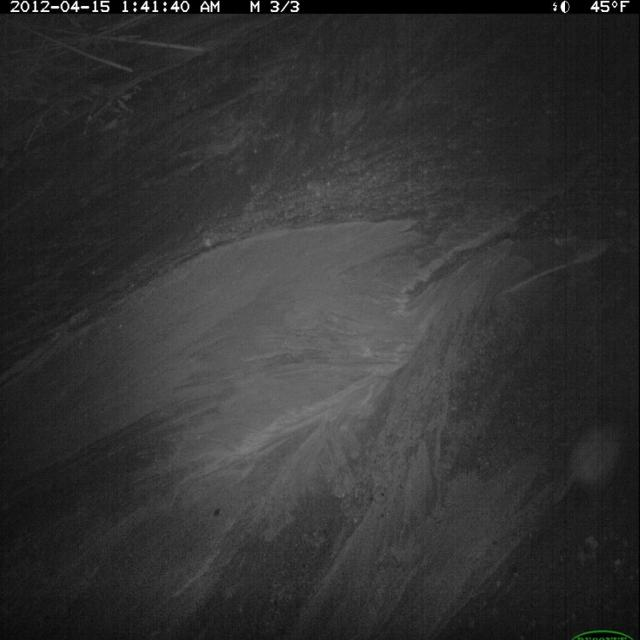opossum: (546, 411, 637, 520)
